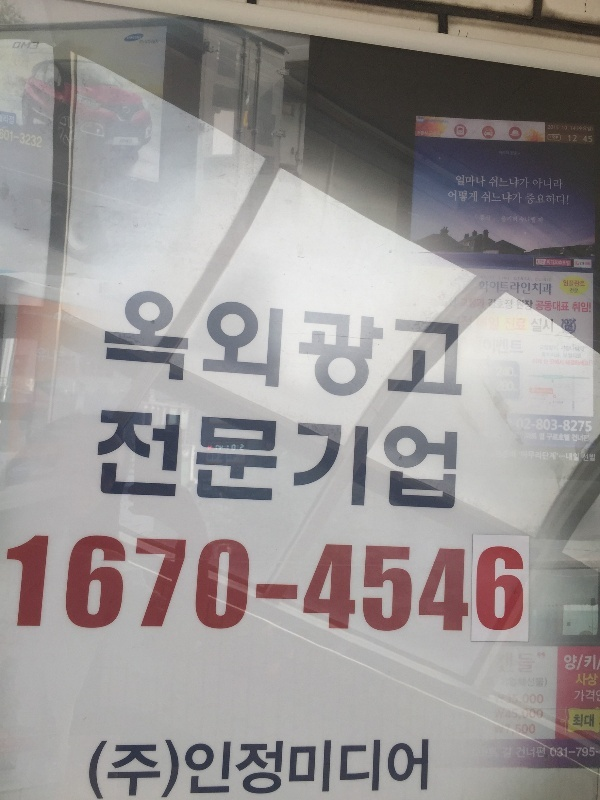text: (449, 289, 465, 406), (113, 289, 128, 406), (129, 289, 144, 406), (145, 289, 160, 406), (161, 289, 176, 406), (177, 289, 192, 406), (193, 289, 208, 406), (209, 289, 224, 406), (225, 289, 240, 406), (241, 289, 256, 406), (257, 289, 272, 406), (273, 289, 288, 406), (289, 289, 304, 406), (305, 289, 320, 406), (321, 289, 336, 406), (337, 289, 352, 406), (353, 289, 368, 406), (369, 289, 384, 406), (385, 289, 400, 406), (401, 289, 416, 406), (417, 289, 432, 406), (433, 289, 448, 406), (17, 522, 32, 633), (33, 522, 48, 633), (49, 522, 64, 633), (65, 522, 80, 633), (81, 522, 96, 633), (97, 522, 112, 633), (113, 522, 128, 633), (129, 522, 144, 633), (145, 522, 160, 633), (161, 522, 176, 633), (177, 522, 192, 633), (193, 522, 208, 633), (209, 522, 224, 633), (225, 522, 240, 633), (241, 522, 256, 633), (257, 522, 272, 633), (273, 522, 288, 633), (289, 522, 304, 633), (305, 522, 320, 633), (321, 522, 336, 633), (337, 522, 352, 633), (353, 522, 368, 633), (369, 522, 384, 633), (385, 522, 400, 633), (401, 522, 416, 633), (417, 522, 432, 633), (433, 522, 448, 633), (449, 522, 464, 633), (465, 522, 480, 633), (481, 522, 496, 633), (497, 522, 512, 633), (113, 410, 128, 509), (129, 410, 144, 509), (145, 410, 160, 509), (161, 410, 176, 509), (177, 410, 192, 509), (193, 410, 208, 509), (209, 410, 224, 509), (225, 410, 240, 509), (241, 410, 256, 509), (257, 410, 272, 509), (273, 410, 288, 509), (289, 410, 304, 509), (305, 410, 320, 509), (321, 410, 336, 509), (337, 410, 352, 509), (353, 410, 368, 509), (369, 410, 384, 509), (385, 410, 400, 509), (401, 410, 416, 509), (417, 410, 432, 509), (433, 410, 448, 509), (513, 522, 525, 633), (100, 410, 112, 509), (449, 410, 460, 509), (7, 522, 16, 633), (97, 740, 112, 800), (113, 740, 128, 800), (129, 740, 144, 800), (145, 740, 160, 800), (161, 740, 176, 800), (177, 740, 192, 800), (193, 740, 208, 800), (209, 740, 224, 800), (225, 740, 240, 800), (241, 740, 256, 800), (257, 740, 272, 800), (273, 740, 288, 800), (289, 740, 304, 800), (305, 740, 320, 800), (321, 740, 336, 800), (337, 740, 352, 800), (353, 740, 368, 800), (369, 740, 384, 800), (385, 740, 400, 800), (401, 740, 416, 800), (417, 740, 431, 800), (107, 289, 112, 406), (89, 740, 96, 800), (1, 128, 16, 149), (17, 128, 32, 149), (577, 654, 592, 671), (561, 320, 576, 335), (481, 281, 496, 296), (497, 281, 512, 296), (513, 281, 528, 296), (529, 281, 544, 296), (529, 419, 544, 433), (545, 419, 560, 433), (561, 419, 576, 433), (577, 419, 592, 433), (497, 340, 512, 354), (481, 318, 496, 332), (33, 128, 43, 149), (564, 654, 576, 671), (513, 318, 527, 332), (577, 714, 592, 727), (577, 690, 592, 703), (483, 340, 496, 354), (531, 319, 544, 333), (529, 451, 544, 463), (545, 451, 560, 463), (561, 451, 576, 463), (577, 451, 592, 463), (465, 175, 480, 187), (449, 190, 464, 202), (497, 192, 512, 204), (529, 747, 544, 759), (577, 674, 592, 686), (17, 40, 32, 52), (1, 114, 16, 126), (513, 177, 529, 188), (482, 192, 496, 204), (497, 177, 512, 188), (529, 194, 544, 205), (545, 194, 560, 205), (497, 299, 512, 310), (577, 302, 592, 313), (529, 693, 544, 704), (465, 190, 478, 202), (517, 419, 528, 433), (529, 433, 544, 443), (545, 433, 560, 443), (561, 433, 576, 443), (465, 299, 480, 309), (545, 179, 560, 189), (545, 301, 560, 311), (561, 748, 576, 758), (577, 748, 592, 758), (513, 340, 523, 354), (529, 709, 543, 719), (513, 679, 528, 688), (529, 679, 544, 688), (517, 747, 528, 759), (545, 319, 554, 333), (517, 299, 528, 310), (577, 433, 589, 443), (545, 281, 553, 296), (593, 654, 600, 671), (503, 746, 512, 759), (515, 725, 528, 734), (577, 126, 593, 133), (533, 179, 544, 189), (513, 192, 522, 204), (550, 748, 560, 758), (505, 318, 512, 332), (456, 175, 464, 187), (33, 40, 41, 52), (563, 280, 576, 287), (593, 690, 600, 703), (545, 360, 560, 366), (561, 360, 576, 366), (545, 345, 560, 351), (561, 345, 576, 351), (545, 352, 560, 358), (561, 352, 576, 358), (417, 132, 432, 138), (535, 301, 544, 311), (561, 301, 570, 311), (561, 194, 569, 205), (488, 299, 496, 310), (521, 451, 528, 463), (145, 39, 159, 45), (481, 215, 491, 223), (547, 261, 560, 267), (501, 216, 512, 223), (489, 177, 496, 188), (529, 277, 544, 282), (577, 360, 589, 366), (583, 136, 592, 144), (562, 126, 576, 131), (514, 277, 528, 282), (533, 360, 544, 366), (499, 151, 512, 156), (568, 135, 576, 143), (529, 725, 536, 734), (522, 433, 528, 443), (548, 126, 560, 131), (481, 175, 486, 187), (593, 748, 599, 758), (593, 674, 598, 686), (129, 36, 141, 41), (577, 280, 585, 287), (529, 299, 534, 310), (523, 693, 528, 704), (561, 261, 570, 267), (523, 709, 528, 719), (580, 262, 592, 266), (433, 132, 441, 138), (520, 217, 528, 223), (12, 40, 16, 52), (572, 302, 576, 313), (497, 318, 500, 332), (577, 345, 584, 351), (537, 259, 544, 265), (570, 126, 576, 133), (529, 217, 536, 223), (538, 217, 544, 224), (481, 299, 485, 309), (120, 139, 128, 144), (573, 714, 576, 727), (593, 451, 596, 463), (508, 679, 512, 688), (569, 289, 576, 294), (545, 277, 552, 282), (525, 194, 528, 205), (577, 352, 582, 358), (561, 179, 564, 189), (478, 318, 480, 332), (513, 216, 517, 223), (545, 679, 548, 688), (593, 714, 595, 727), (574, 690, 576, 703), (540, 345, 544, 351), (140, 39, 144, 45), (513, 151, 517, 156), (479, 281, 480, 296), (542, 352, 544, 358), (545, 747, 546, 759), (575, 674, 576, 686), (513, 299, 514, 310), (463, 299, 464, 309), (577, 289, 579, 294), (577, 135, 578, 143), (127, 36, 128, 41)
